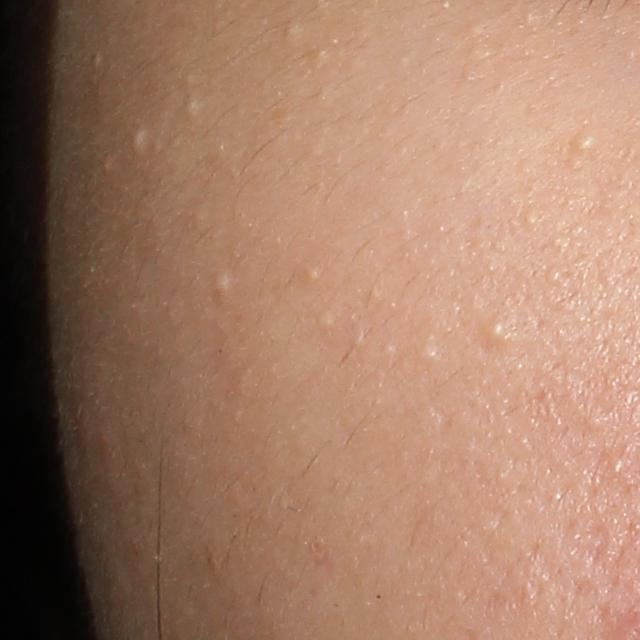other: (129, 126, 153, 153), (570, 129, 597, 152), (419, 342, 440, 365), (521, 205, 541, 228), (322, 309, 341, 332)
